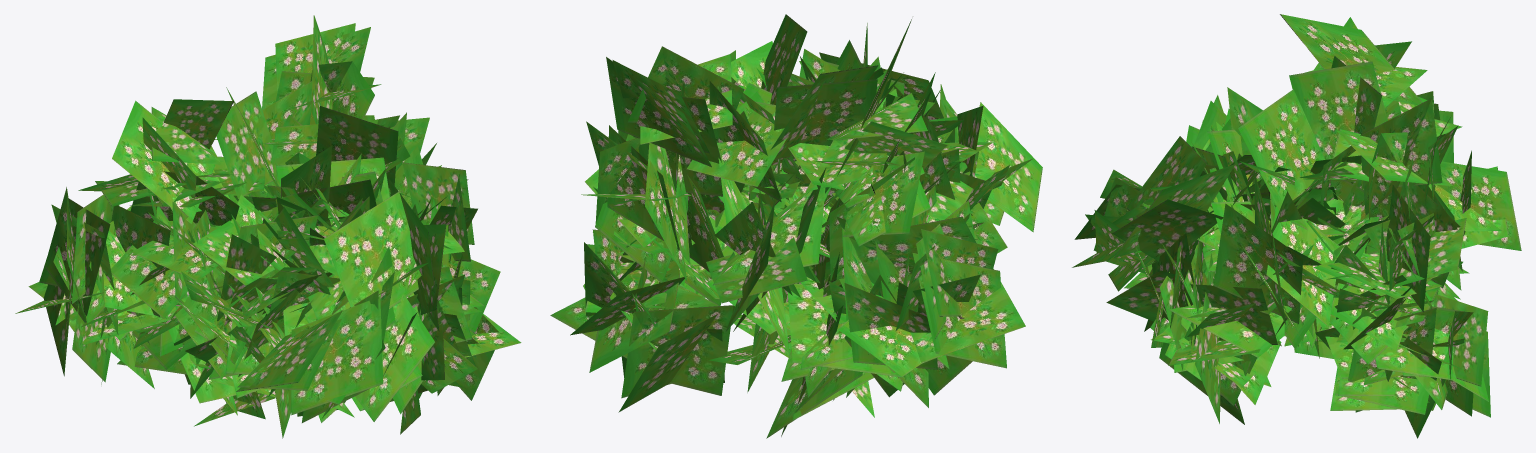
File: bush_1.obj
3 renders of one model, left to right at view 1: azimuth 30°, elevation 25°; view 2: azimuth 150°, elevation 25°; view 3: azimuth 270°, elevation 25°, orthographic. The views are drawn at different scales.
Parts seen in each view (by area): view 1: Bush_1_1; view 2: Bush_1_1; view 3: Bush_1_1.
Part boxes in pixels (<box>): Bush_1_1: <box>15,15,521,438</box>; Bush_1_1: <box>550,14,1042,438</box>; Bush_1_1: <box>1072,14,1521,438</box>.
Size of the model in its own units: 0.9242 by 0.7435 by 0.8872.
Materials: 1 (1 with a texture image).
